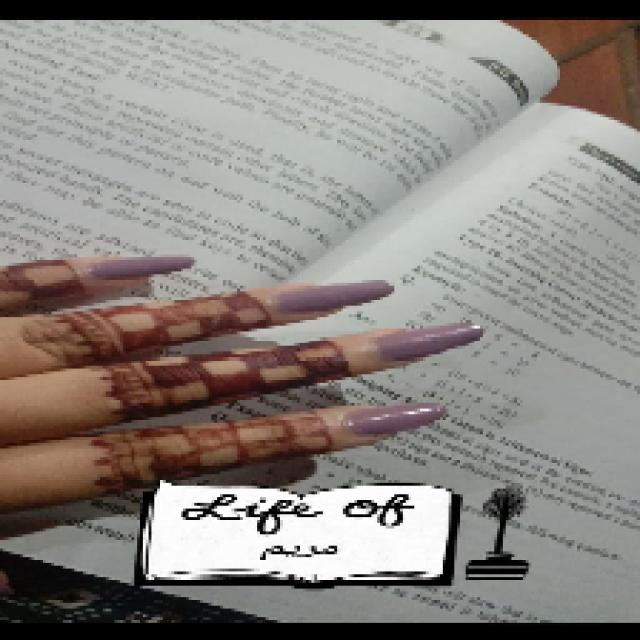Nail: (375, 324, 484, 359), (278, 280, 394, 312), (345, 404, 446, 434), (86, 256, 195, 278)
